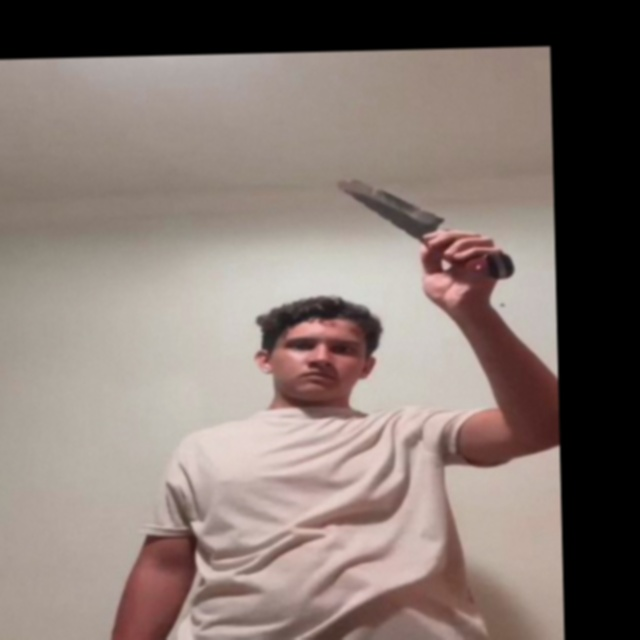Sharp-Object: (332, 178, 443, 233)
